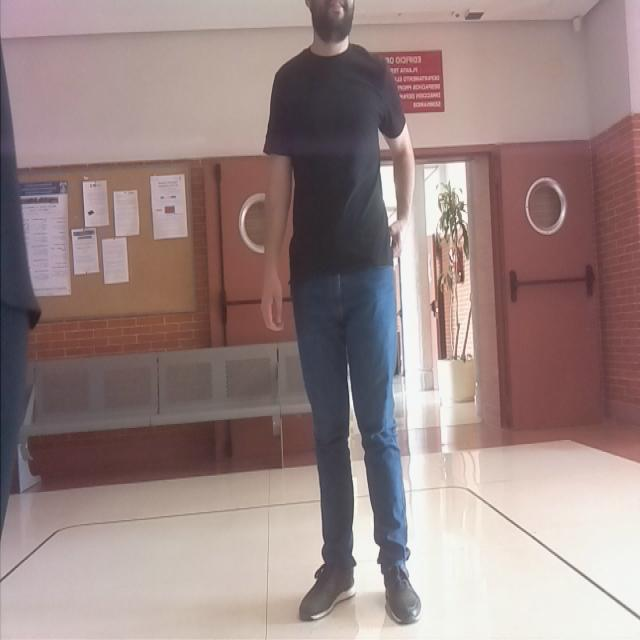person: (254, 0, 428, 629)
